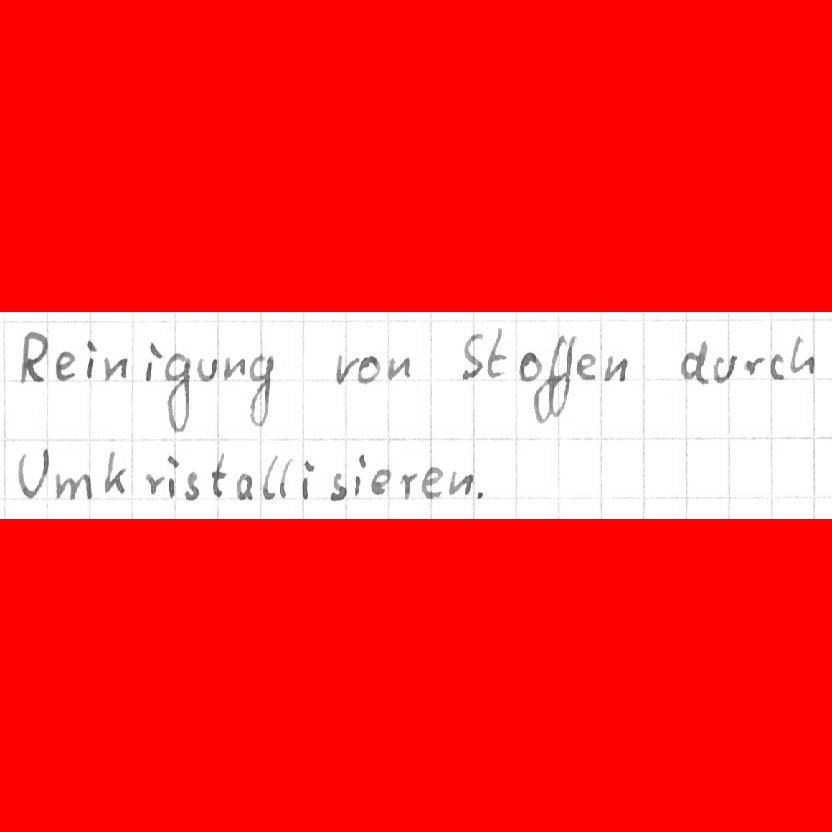Char: (534, 334, 566, 423), (163, 350, 192, 433), (552, 334, 580, 416), (245, 351, 274, 428), (17, 328, 50, 384), (15, 447, 50, 498), (675, 338, 710, 385), (53, 470, 93, 503), (460, 331, 486, 381), (485, 325, 509, 379), (788, 333, 816, 376), (101, 450, 126, 493), (420, 464, 446, 500), (711, 351, 738, 385), (143, 339, 163, 383), (334, 351, 358, 387), (518, 350, 544, 383), (602, 354, 630, 383), (210, 452, 228, 496), (446, 469, 474, 497), (102, 354, 129, 383), (277, 456, 295, 499), (299, 459, 317, 501), (357, 354, 381, 385), (55, 348, 76, 383), (350, 454, 367, 497), (261, 455, 277, 500), (326, 471, 349, 502), (195, 356, 220, 383), (386, 353, 410, 381), (396, 469, 418, 499), (84, 337, 98, 383), (767, 350, 787, 382), (578, 351, 600, 380), (369, 467, 391, 496), (222, 354, 245, 381), (234, 471, 254, 501), (180, 470, 199, 501), (166, 453, 179, 498), (143, 470, 165, 496), (742, 354, 766, 377), (472, 486, 488, 503)
